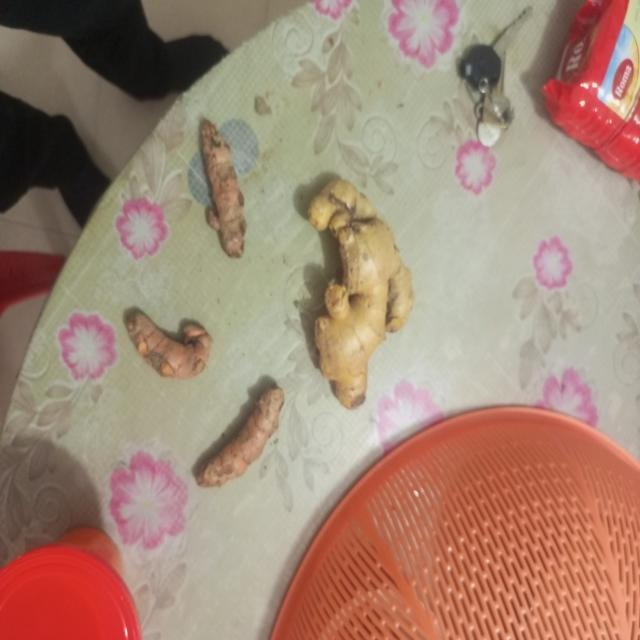ginger: (196, 390, 285, 472), (200, 117, 249, 258), (125, 302, 212, 375)
